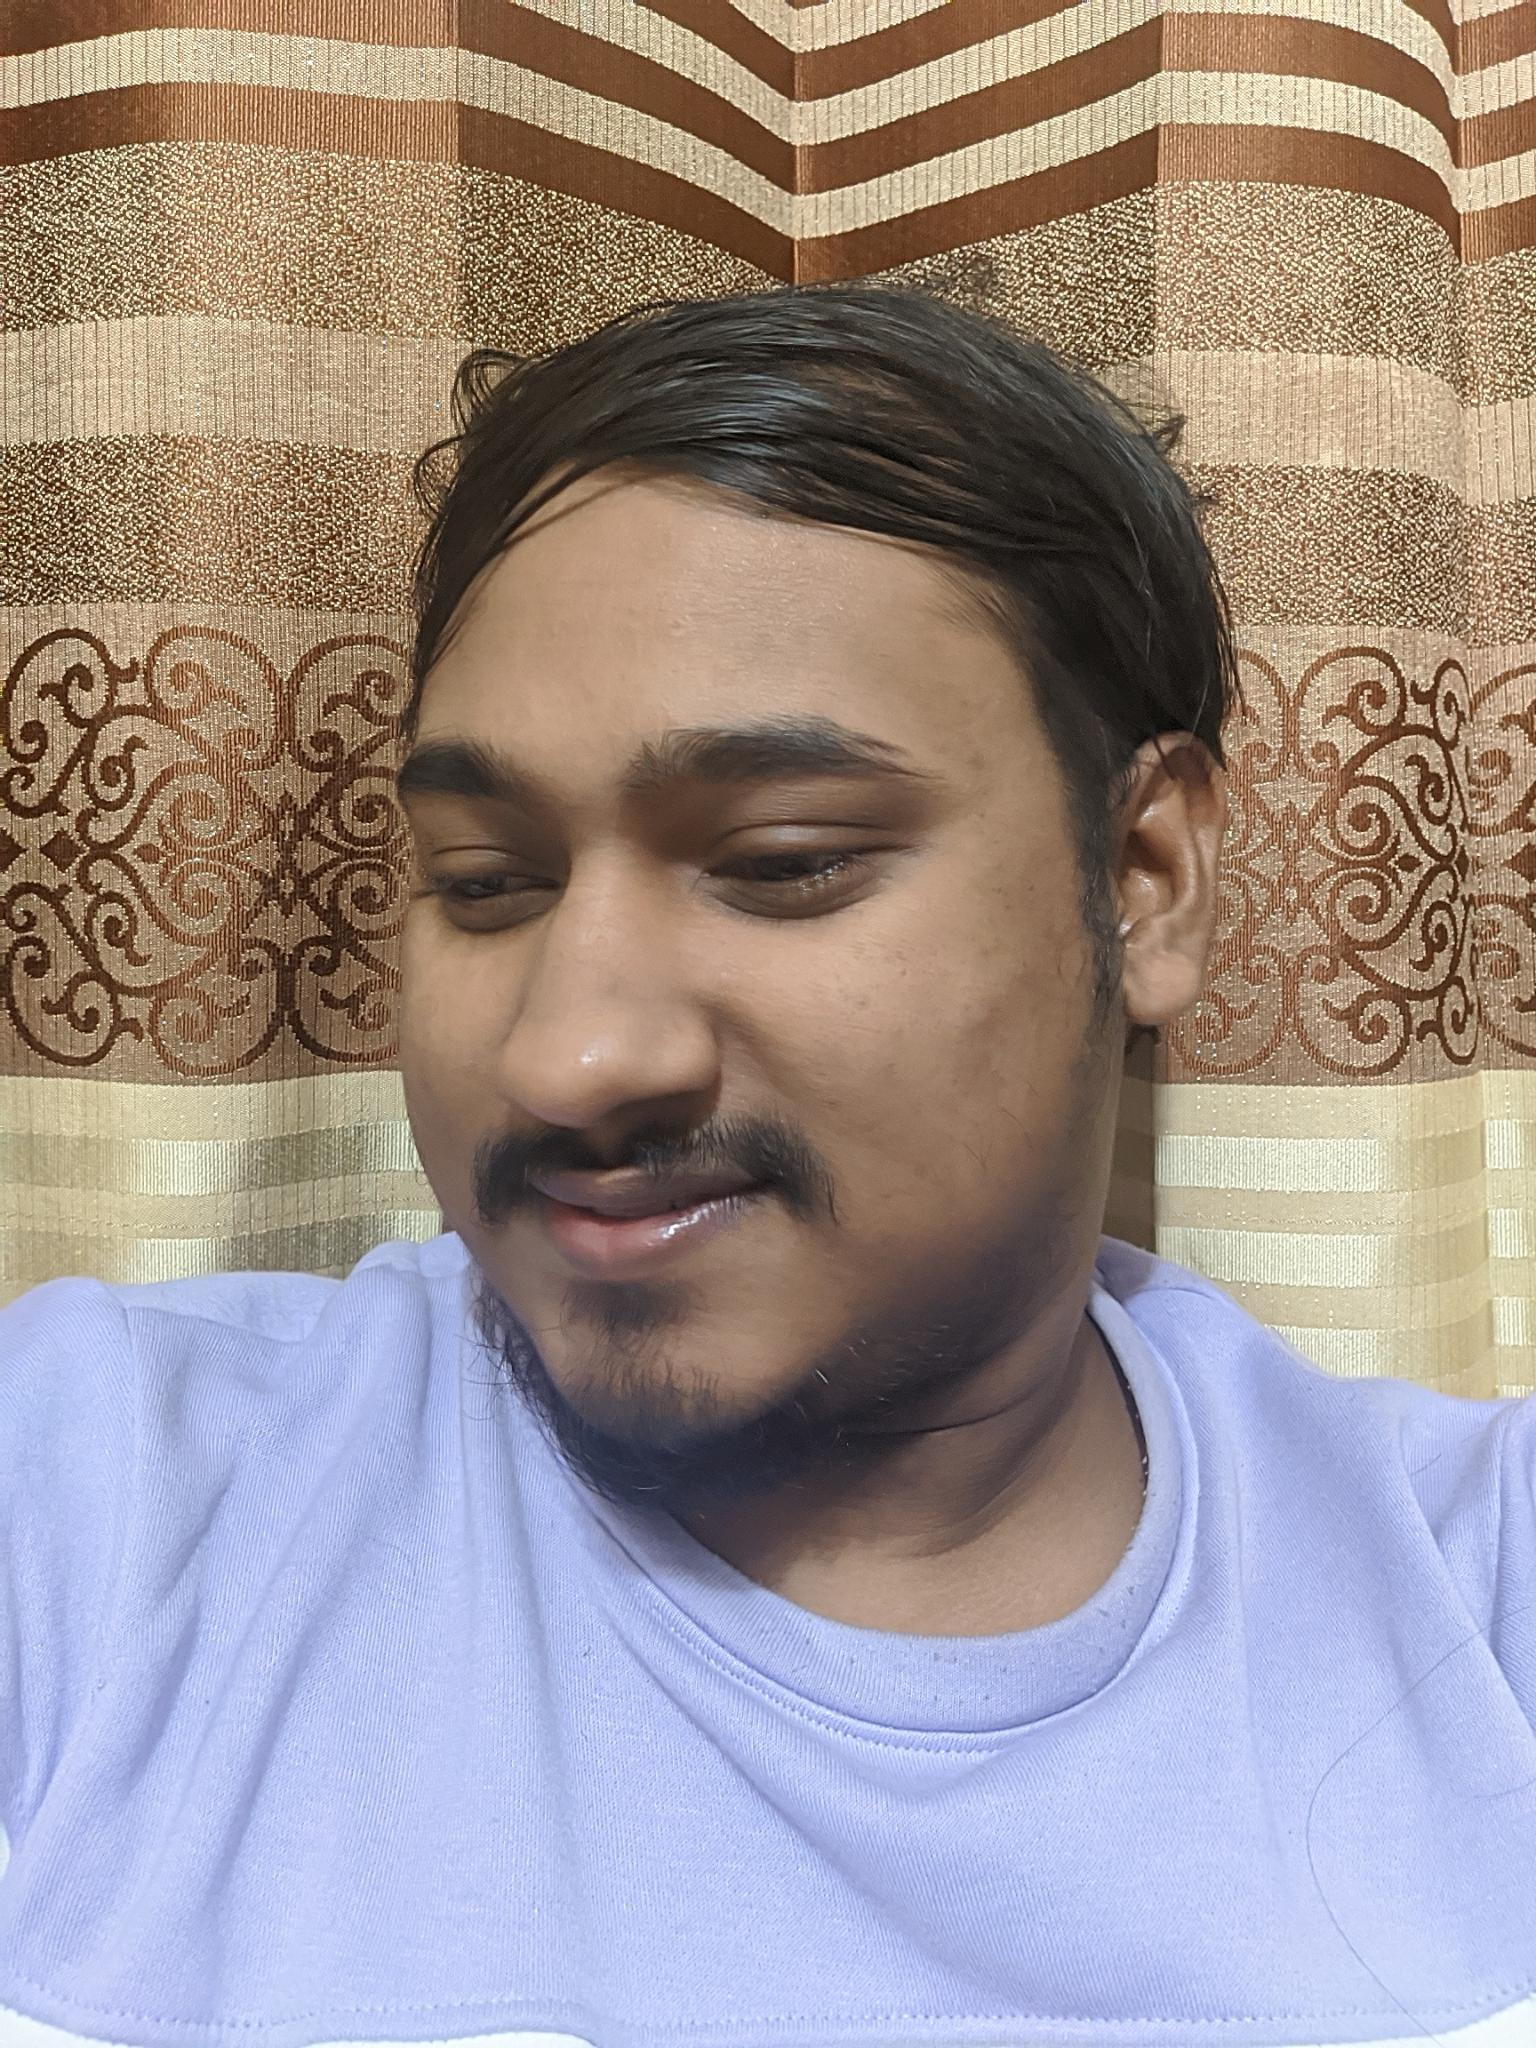Happy: (366, 622, 1044, 1458)
